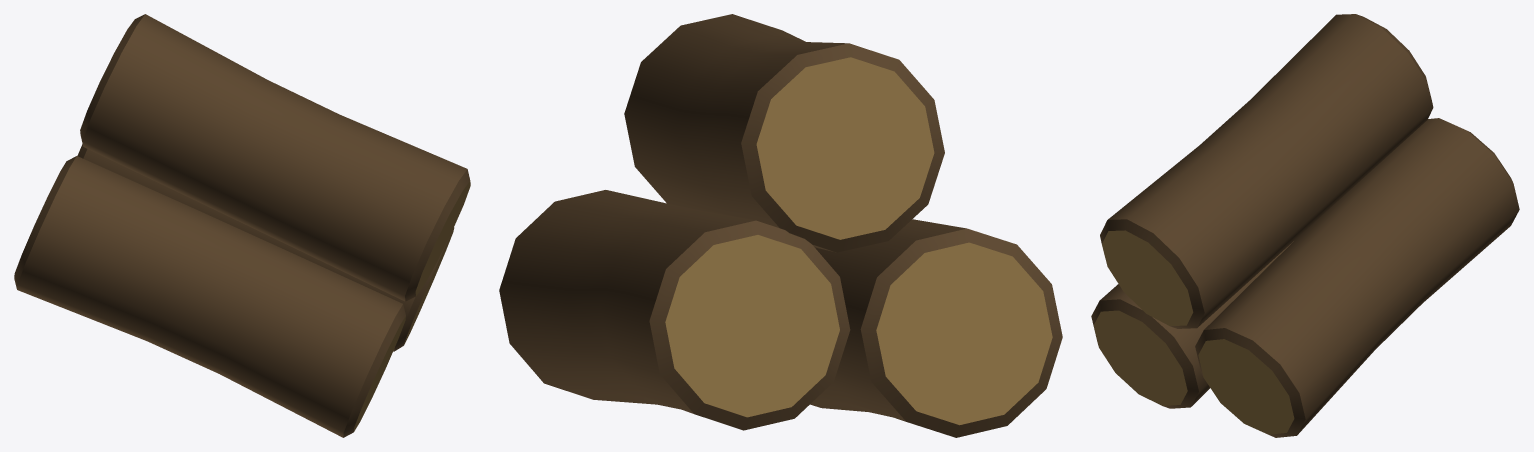
The model's file is firewood-logs.glb.
The picture shows the model from 3 angles, left to right: view 1: azimuth 30°, elevation 25°; view 2: azimuth 150°, elevation 25°; view 3: azimuth 270°, elevation 25°; orthographic projection. The views are drawn at different scales.
Parts seen in each view (by area): view 1: UI_Wood; view 2: UI_Wood; view 3: UI_Wood.
Part boxes in pixels (left/top/right/bottom): UI_Wood: left=14, top=14, right=470, bottom=437; UI_Wood: left=499, top=14, right=1062, bottom=437; UI_Wood: left=1091, top=14, right=1519, bottom=437.
Bounding box in the file's own units: 0.5581 × 0.4678 × 0.5338.
Materials: 1 (1 with a texture image).
